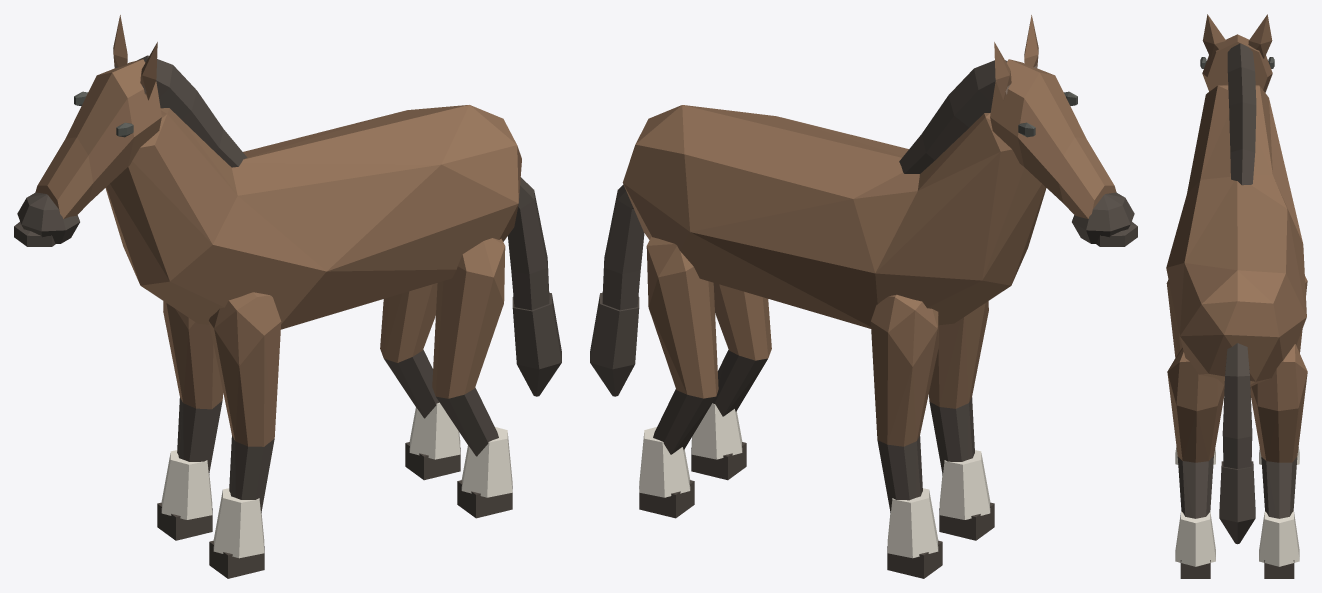
File: horse-mesh.glb
3 renders of one model, left to right at view 1: azimuth 30°, elevation 25°; view 2: azimuth 150°, elevation 25°; view 3: azimuth 270°, elevation 25°, orthographic. The views are drawn at different scales.
Parts seen in each view (by area): view 1: Horse; view 2: Horse; view 3: Horse.
Part boxes in pixels (x1,y1,x2,y2): Horse: (14,15,561,578); Horse: (590,15,1137,578); Horse: (1166,14,1307,578).
Bounding box in the file's own units: 0.768 × 0.73 × 0.2166.
